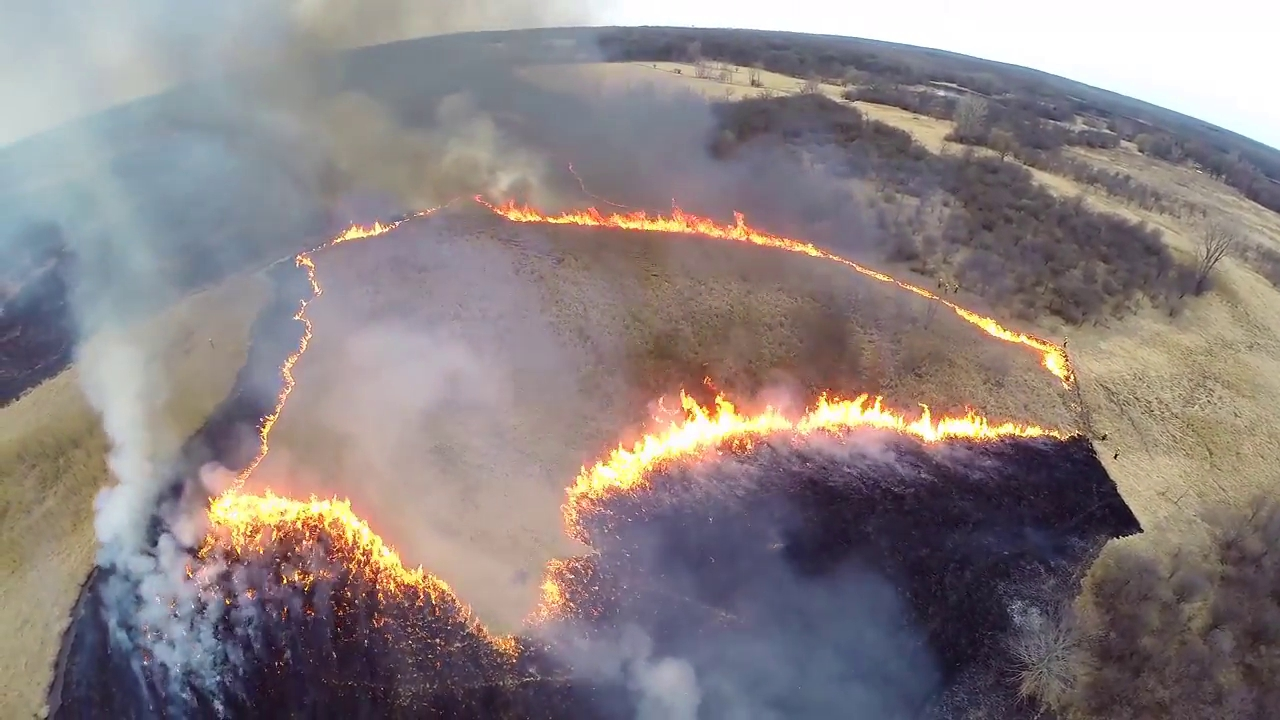forest_fire: (476, 196, 1075, 389), (199, 209, 457, 601), (562, 391, 1065, 533), (462, 606, 518, 655), (533, 560, 570, 620), (283, 570, 335, 588)
